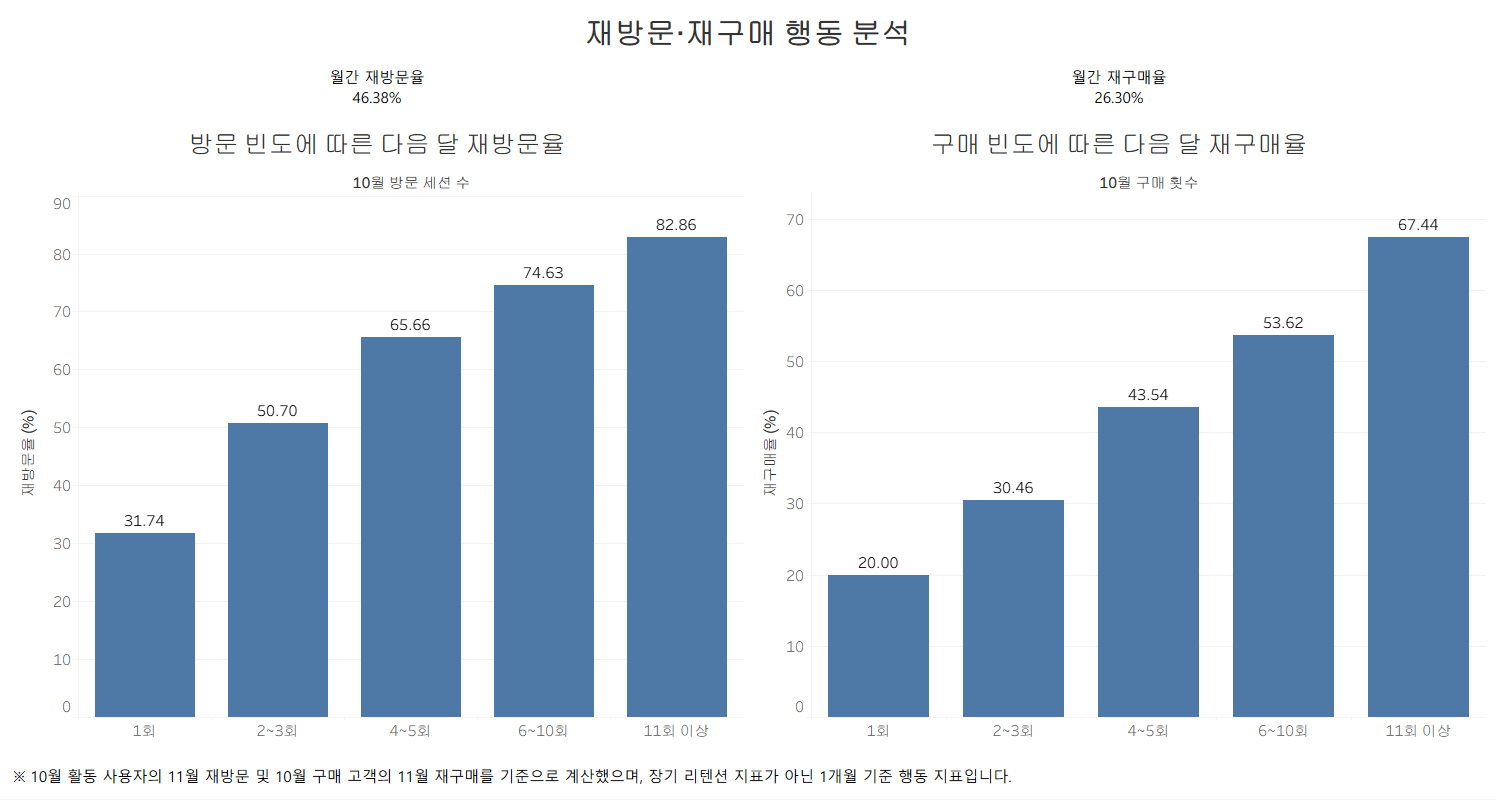

The dashboard page shown, as its layout file describes it:
{"tool":"tableau","page":{"name":"재방문·재구매 행동 분석","canvas":[1500,800],"ordinal":2},"visuals":[{"type":"title","box":[8,8,1484,49]},{"type":"text","box":[8,57,742,61.9]},{"type":"text","box":[750,57,742,61.9]},{"type":"worksheet","title":"방문 빈도에 따른 다음 달 재방문율","mark":"Automatic","rows":["revisit_rate_pct"],"cols":["session_range"],"box":[8,118.9,742,643.1]},{"type":"worksheet","title":"구매 빈도에 따른 다음 달 재구매율","mark":"Automatic","rows":["repurchase_rate_pct"],"cols":["purchase_range"],"box":[750,118.9,742,643.1]},{"type":"text","box":[8,762,1484,30]}]}

Visuals, with their boxes in screenshot pixels (x1, y1, x2, y2), scaled from the page's 1500x800 canvas onto the 1495x800 screenshot:
title: pyautogui.locateOnScreen(8, 8, 1487, 57)
text: pyautogui.locateOnScreen(8, 57, 748, 119)
text: pyautogui.locateOnScreen(748, 57, 1487, 119)
"방문 빈도에 따른 다음 달 재방문율" worksheet: pyautogui.locateOnScreen(8, 119, 748, 762)
"구매 빈도에 따른 다음 달 재구매율" worksheet: pyautogui.locateOnScreen(748, 119, 1487, 762)
text: pyautogui.locateOnScreen(8, 762, 1487, 792)
